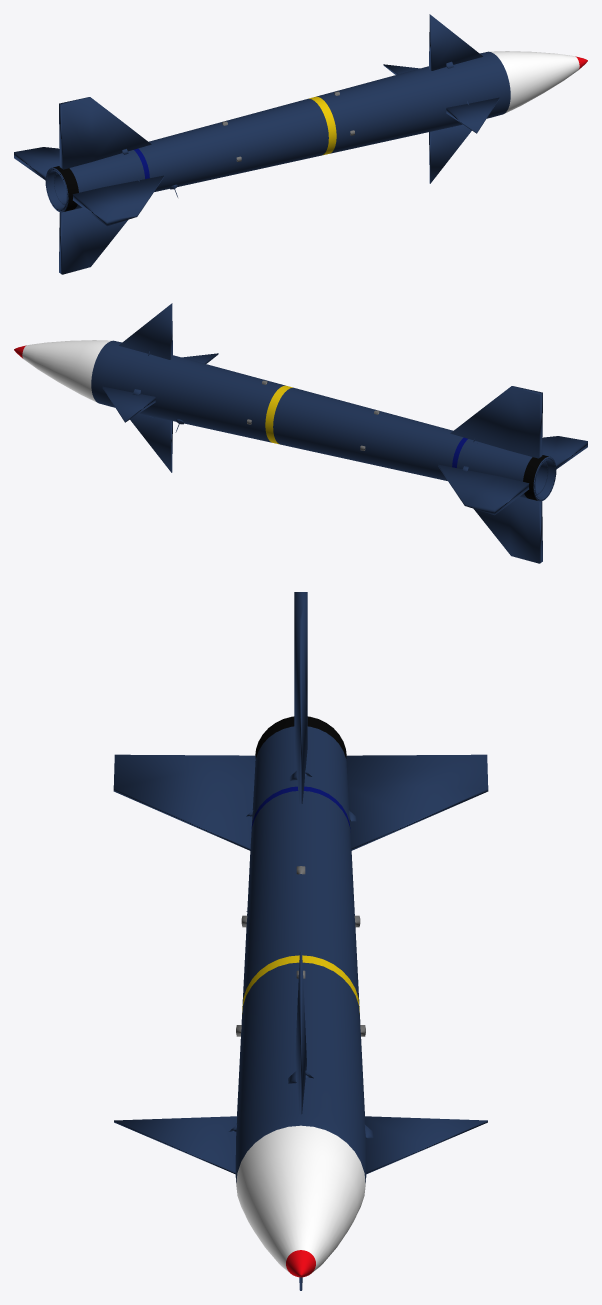
Rendered from missile.fbx.
3 views of the same model, one above another, from view 1: azimuth 30°, elevation 25°; view 2: azimuth 150°, elevation 25°; view 3: azimuth 270°, elevation 25° (orthographic). The views are drawn at different scales.
Parts seen in each view (by area): view 1: Cylinder; view 2: Cylinder; view 3: Cylinder.
Boxes of the visible parts, x1=… form: Cylinder: x1=14, y1=14, x2=587, y2=274; Cylinder: x1=14, y1=303, x2=587, y2=563; Cylinder: x1=113, y1=592, x2=488, y2=1290.
Bounding box in the file's own units: 824 × 252 × 252.
